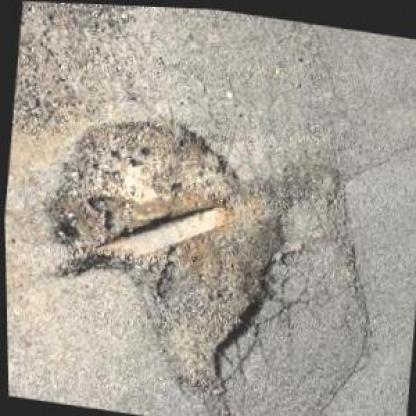pothole: (21, 98, 301, 404)
